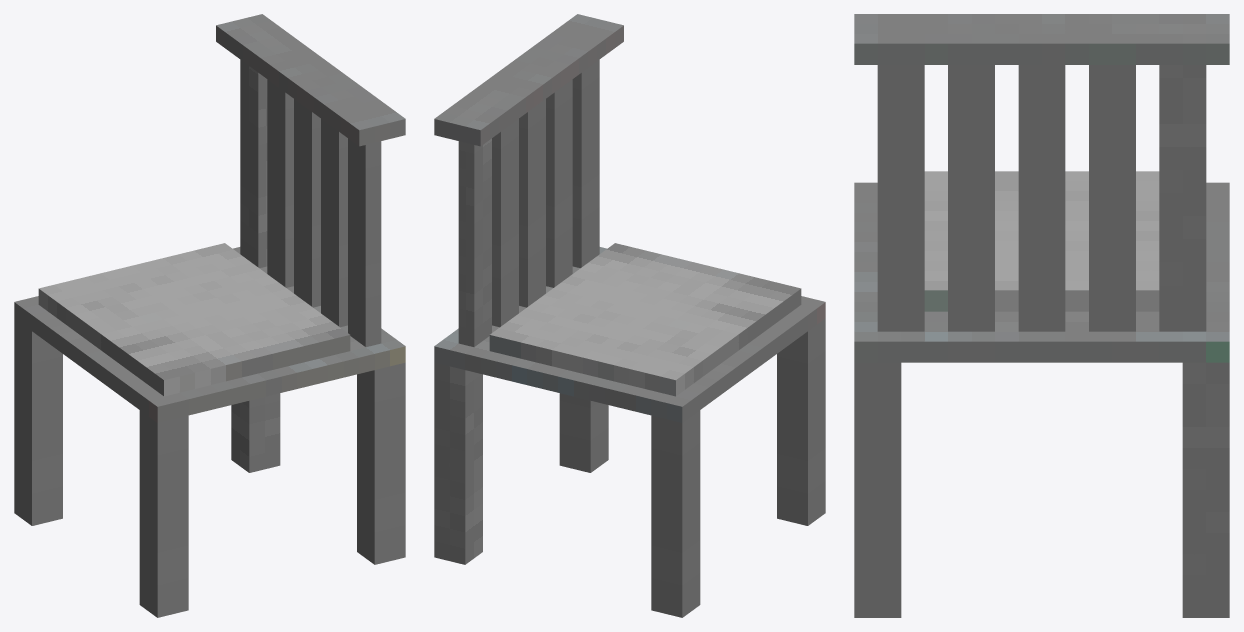
The model's file is table_chair.gltf.
3 views of the same model, side by side, from view 1: azimuth 30°, elevation 25°; view 2: azimuth 150°, elevation 25°; view 3: azimuth 270°, elevation 25° (orthographic). The views are drawn at different scales.
Visible parts, largest first — view 1: cushion, base, br, top, bl, fr, slat_5, slat_1, slat_2, slat_3, slat_4, fl; view 2: cushion, base, fr, top, fl, br, slat_1, slat_5, slat_4, slat_2, slat_3, bl; view 3: base, top, cushion, slat_1, slat_3, slat_5, slat_2, slat_4, fl, bl.
Part boxes in pixels (box(x1,y1,x2,y2)): cushion: box(38, 243, 350, 396); base: box(14, 247, 405, 422); br: box(139, 410, 188, 617); top: box(216, 14, 405, 146); bl: box(357, 362, 405, 564); fr: box(14, 318, 62, 525); slat_5: box(348, 138, 381, 346); slat_1: box(240, 60, 267, 268); slat_2: box(267, 79, 293, 287); slat_3: box(294, 99, 320, 307); slat_4: box(321, 119, 347, 327); fl: box(231, 393, 280, 472); cushion: box(489, 243, 801, 396); base: box(434, 247, 825, 422); fr: box(651, 410, 700, 617); top: box(434, 14, 623, 146); fl: box(434, 362, 482, 564); br: box(777, 318, 825, 525); slat_1: box(458, 138, 491, 346); slat_5: box(572, 60, 599, 268); slat_4: box(546, 79, 572, 287); slat_2: box(492, 119, 518, 327); slat_3: box(519, 99, 545, 307); bl: box(559, 393, 608, 472); base: box(854, 182, 1229, 362); top: box(854, 14, 1229, 64); cushion: box(924, 171, 1159, 311); slat_1: box(1159, 65, 1206, 331); slat_3: box(1018, 65, 1065, 331); slat_5: box(877, 65, 924, 331); slat_2: box(1089, 65, 1135, 331); slat_4: box(948, 65, 994, 331); fl: box(1182, 362, 1229, 617); bl: box(854, 362, 901, 617).
Size of the model in its own units: 1 by 1.69 by 1.
4 materials, 4 textured.
